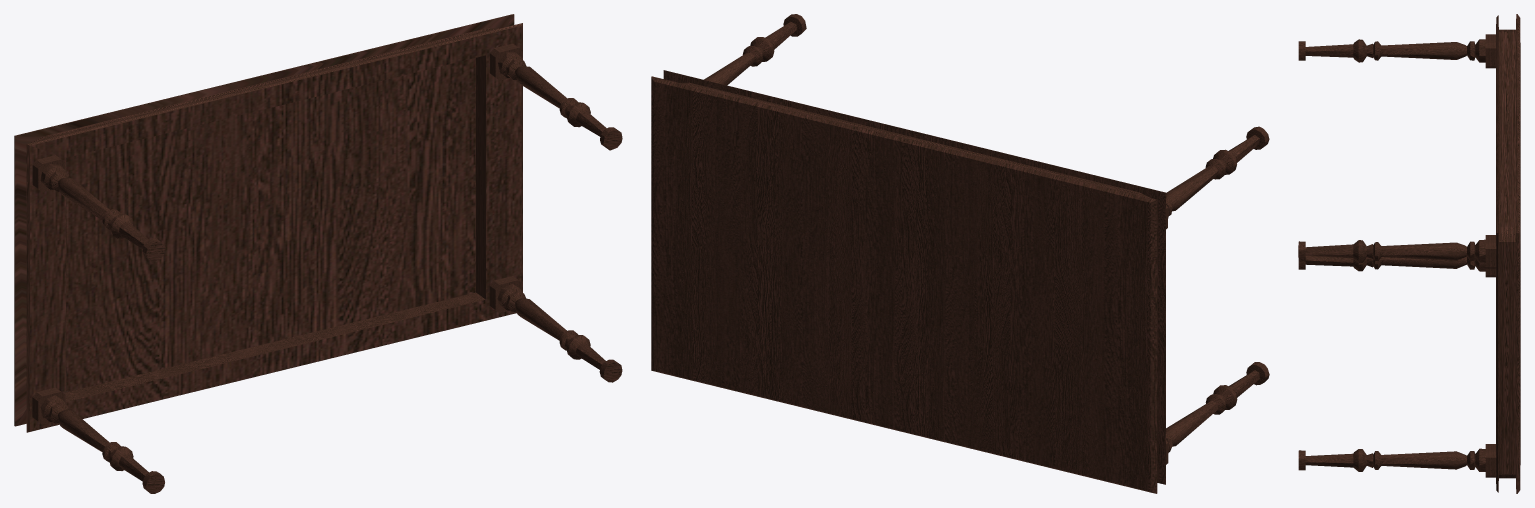
The model's file is mesa grande.fbx.
The picture shows the model from 3 angles, left to right: view 1: azimuth 30°, elevation 25°; view 2: azimuth 150°, elevation 25°; view 3: azimuth 270°, elevation 25°; orthographic projection. The views are drawn at different scales.
Parts seen in each view (by area): view 1: mesa grande; view 2: mesa grande; view 3: mesa grande.
Part boxes in pixels (box(x1,y1,x2,y2)): mesa grande: box(14, 14, 622, 493); mesa grande: box(651, 14, 1269, 493); mesa grande: box(1298, 14, 1520, 493).
Bounding box in the file's own units: 2.28 × 1.27 × 0.9766.
